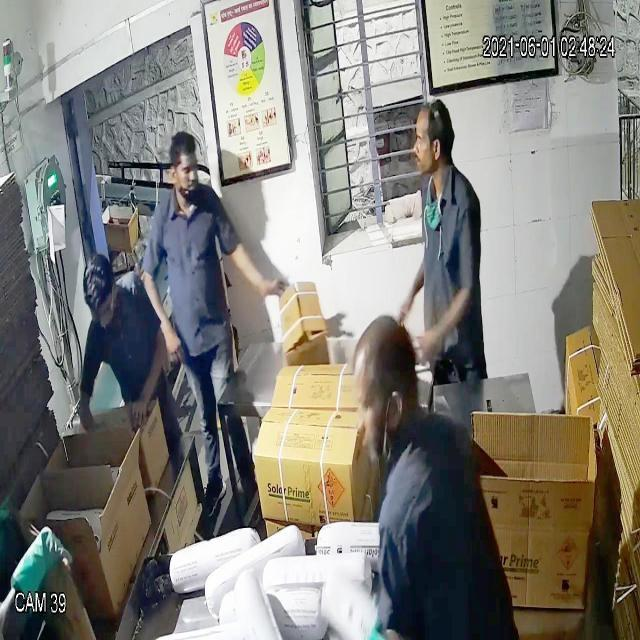hairnet: (345, 412, 398, 482), (167, 166, 209, 209)
no_apron: (159, 316, 187, 368), (125, 387, 153, 429)
no_gloves: (347, 310, 424, 406), (415, 96, 457, 150), (167, 129, 198, 180)
no_hairnet: (408, 138, 446, 177)
